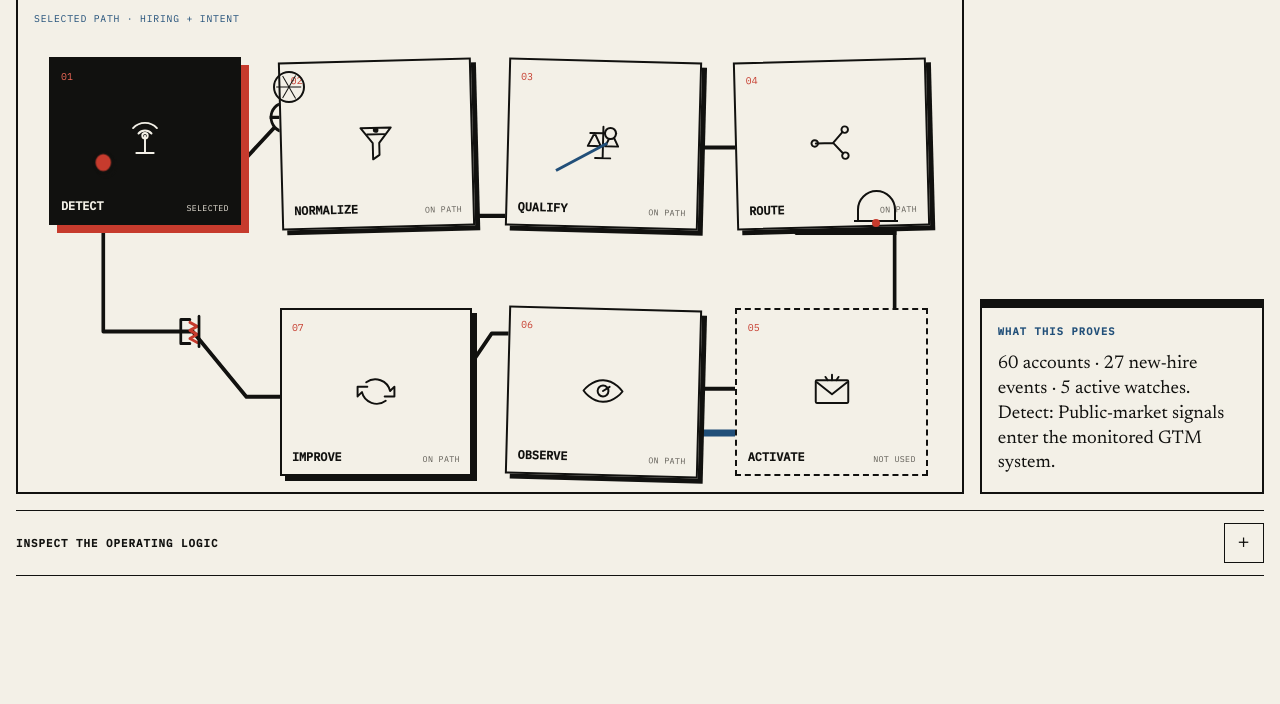
ControlRoom › marks inconsistent sampled-action telemetry unavailable instead of inventing a failure count
The width and height of the screenshot is (1280, 704).
(page scrolled)
Click the text "Inspect the operating logic" at (117, 543), box [16,536,219,550]
(page scrolled)
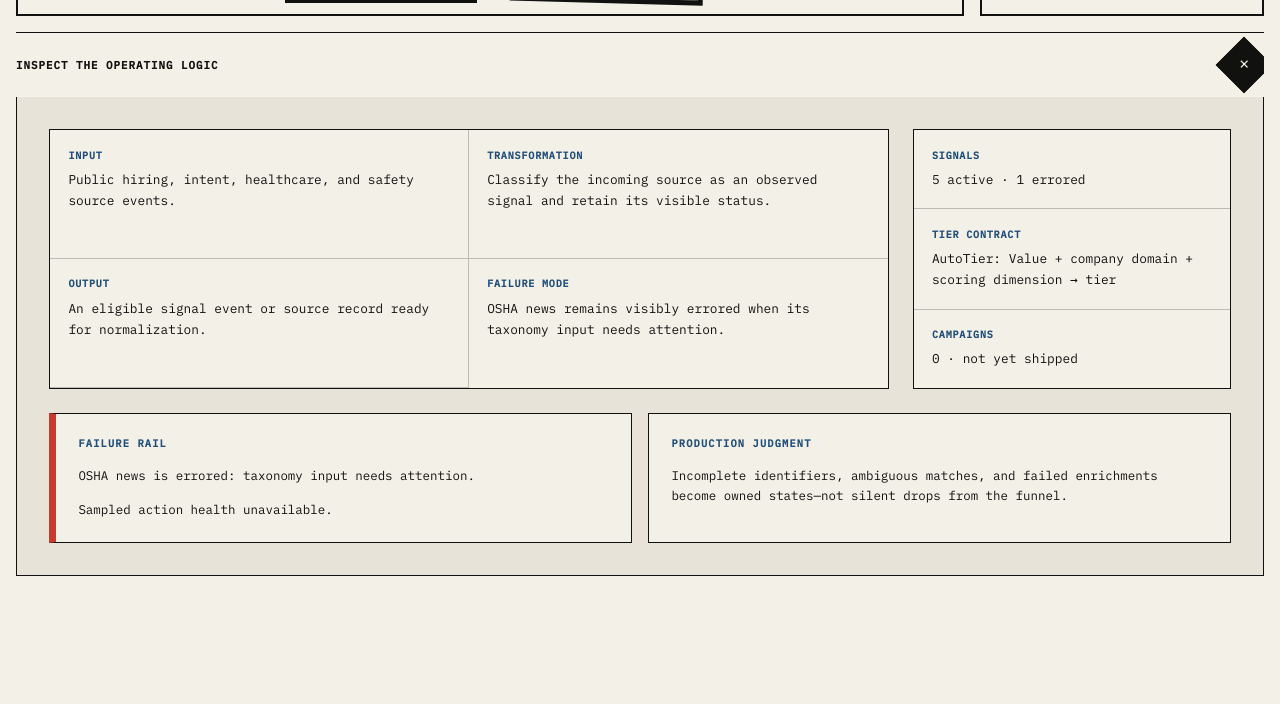
expect the element named "Reliability telemetry" shows "Sampled action health unavailable": met, box [78,501,333,517]
